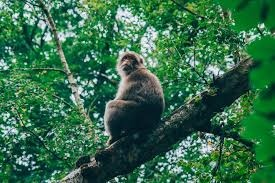monkey: (101, 48, 167, 146)
